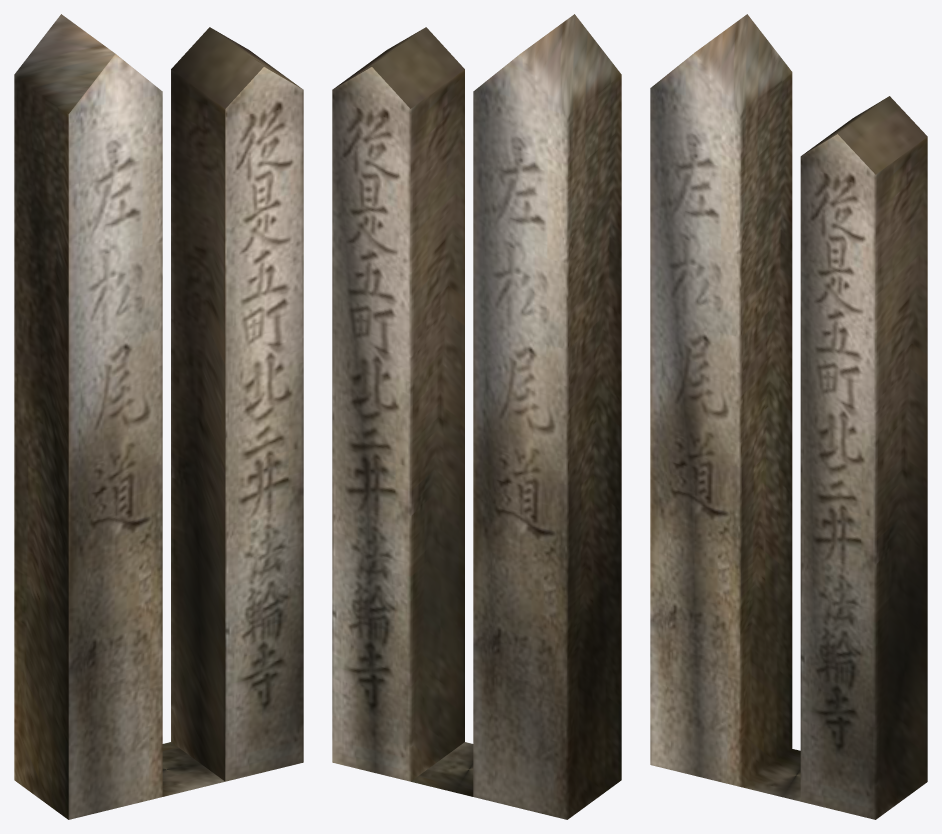
Rendered from Horyu-ji-TemplePinacles.fbx.
3 views of the same model, side by side, from view 1: azimuth 30°, elevation 25°; view 2: azimuth 150°, elevation 25°; view 3: azimuth 330°, elevation 25° (orthographic). The views are drawn at different scales.
Visible parts, largest first — view 1: default; view 2: default; view 3: default.
Boxes of the visible parts, x1=… form: default: x1=14, y1=14, x2=303, y2=819; default: x1=332, y1=14, x2=621, y2=819; default: x1=650, y1=14, x2=927, y2=819.
Bounding box in the file's own units: 62.4 × 191 × 24.96.
